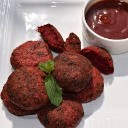cutlet: (8, 66, 53, 106), (39, 98, 86, 128), (55, 53, 93, 88), (11, 38, 51, 69), (39, 21, 67, 51)
